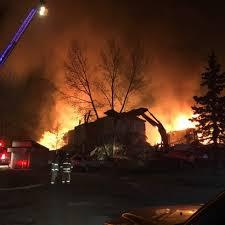fire: (148, 105, 202, 141), (37, 124, 66, 149)
